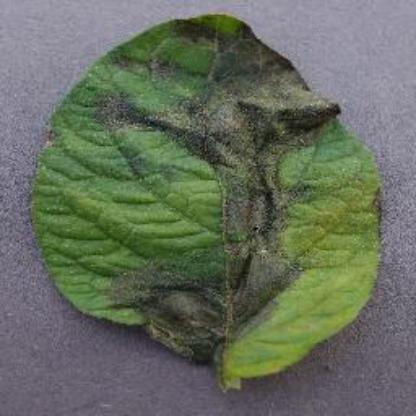Late-Blight: (19, 9, 405, 395)
